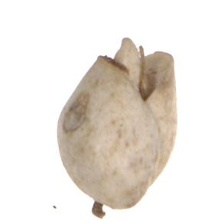L1: (94, 37, 175, 83), (81, 190, 136, 211)
L2: (57, 38, 178, 212)
